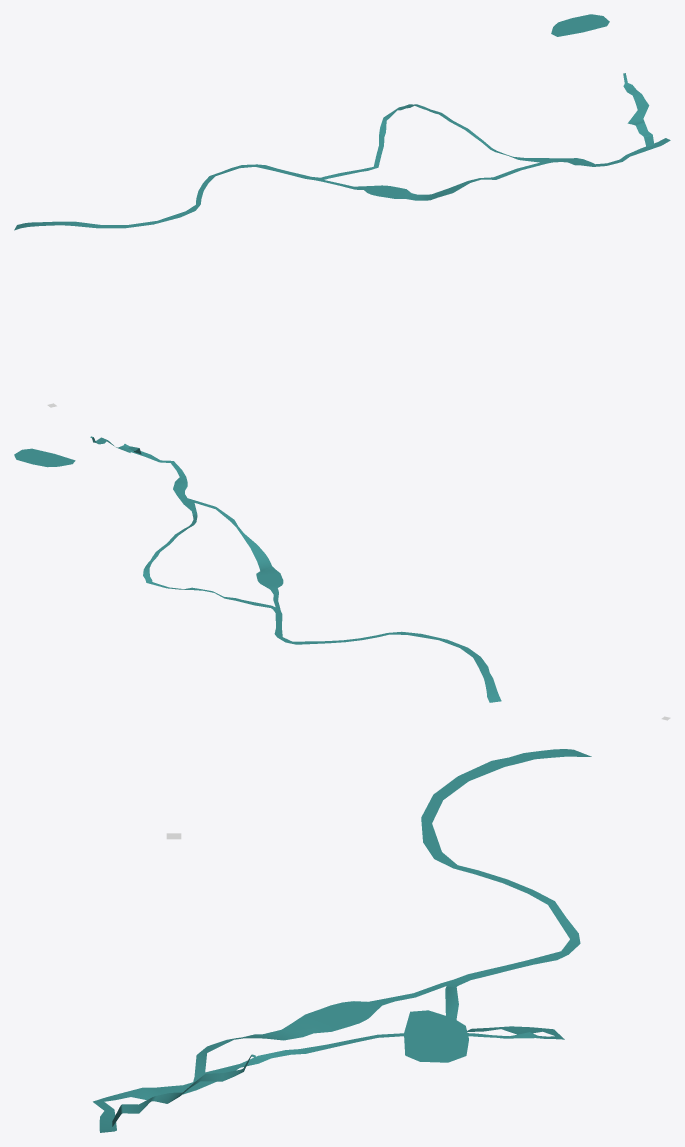
The model's file is water_line.fbx.
3 renders of one model, top to bottom at view 1: azimuth 30°, elevation 25°; view 2: azimuth 150°, elevation 25°; view 3: azimuth 270°, elevation 25°, orthographic. The views are drawn at different scales.
Parts seen in each view (by area): view 1: water; view 2: water; view 3: water.
Part boxes in pixels (left/top/right/bottom): water: left=14, top=14, right=670, bottom=230; water: left=14, top=436, right=501, bottom=702; water: left=93, top=749, right=591, bottom=1132.
Size of the model in its own units: 187376 by 52356 by 69164.
